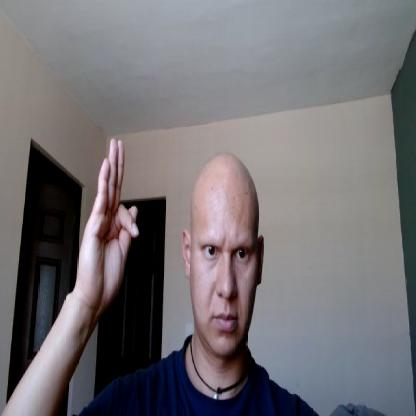F: (78, 134, 140, 302)
